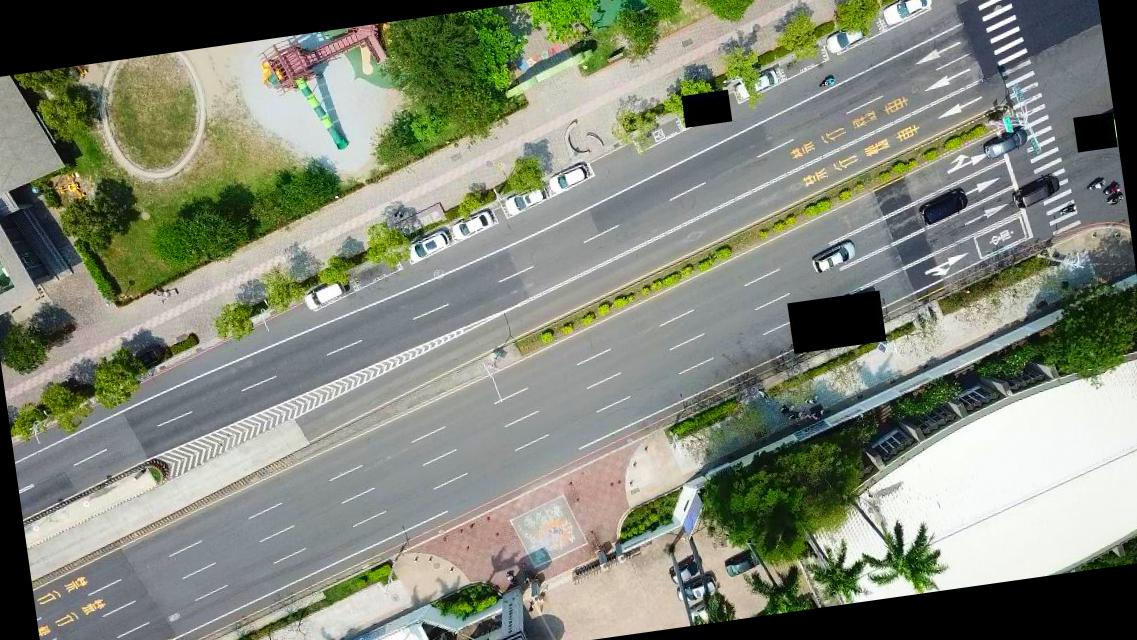vehicle: (919, 188, 970, 226), (823, 18, 870, 56), (810, 240, 858, 276), (733, 66, 781, 102), (1011, 174, 1060, 208), (303, 276, 349, 312), (450, 208, 498, 242), (982, 125, 1030, 158), (676, 572, 722, 606), (405, 229, 450, 263), (880, 0, 934, 26), (666, 554, 706, 586), (505, 186, 546, 217), (684, 596, 724, 626), (545, 166, 589, 193), (725, 548, 764, 578)
